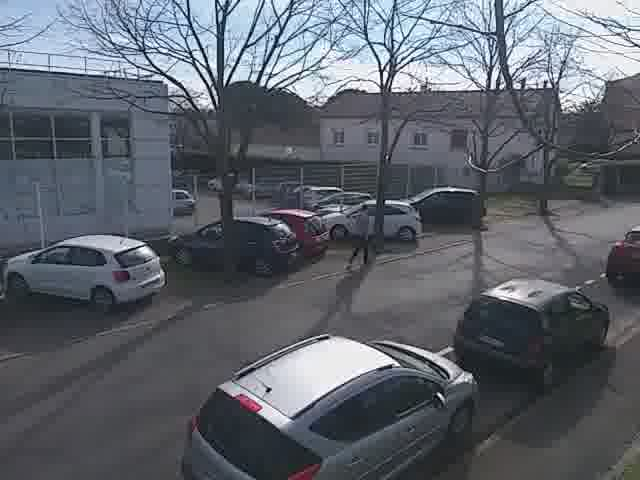persona: (345, 194, 375, 272)
